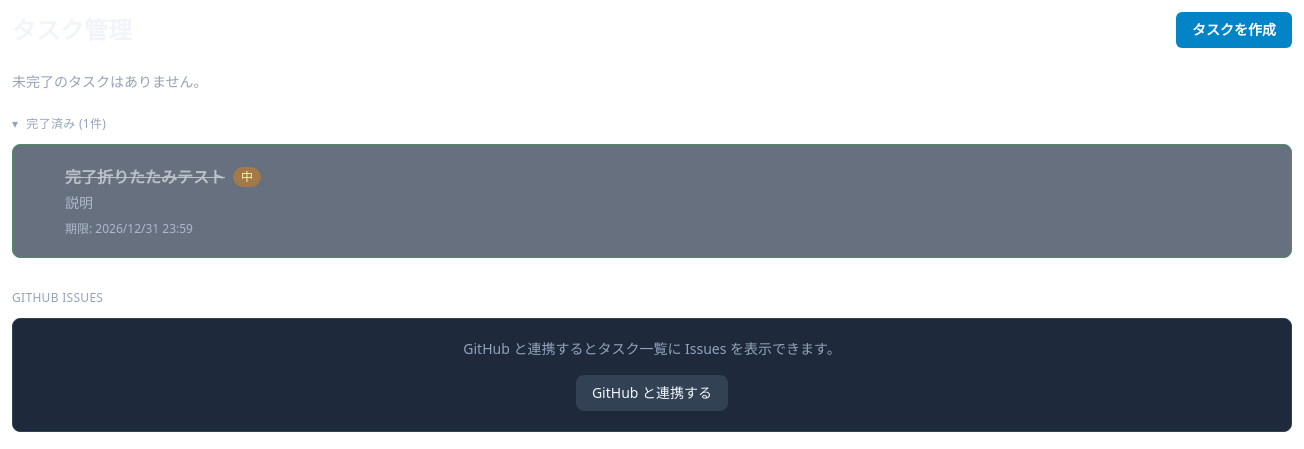
it: TaskListPage › 完了済みセクション › 完了済みセクションのトグルで完了タスクが折りたたまれる
The width and height of the screenshot is (1304, 449).
Expected: the heading "完了折りたたみテスト" is shown, [65, 165, 225, 189]
Note: 完了済みセクションのトグルボタン（▾ / ▸ ボタン）
Click the button "▾ 完了済み (1件)" at point(59, 124), box [12, 116, 106, 132]
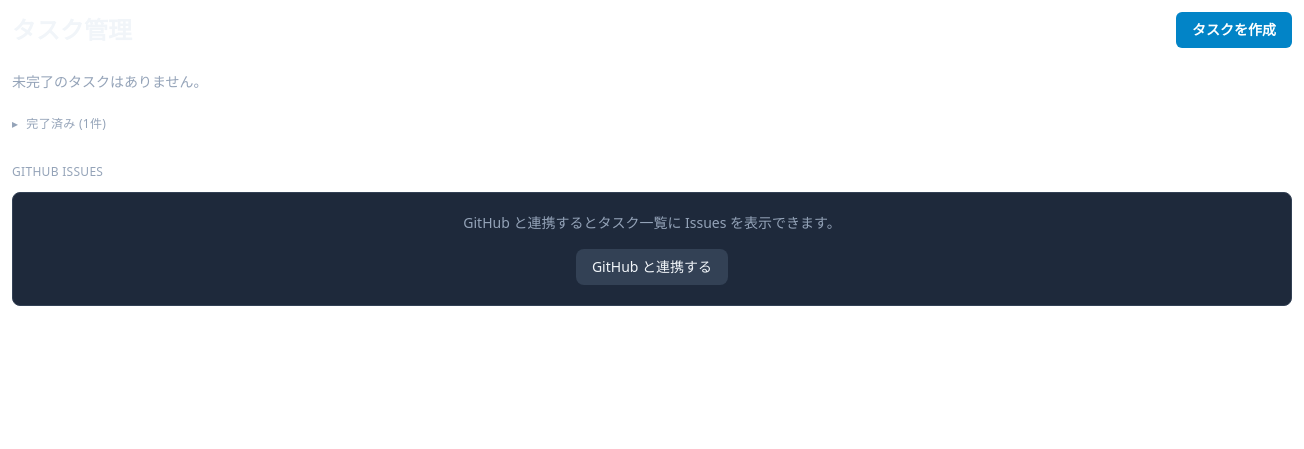
Now the heading "完了折りたたみテスト" is gone
